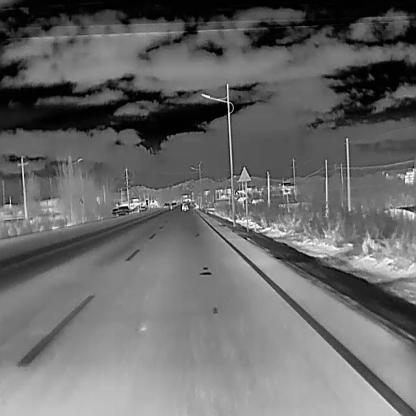car: (117, 205, 130, 215), (111, 207, 118, 217), (181, 202, 188, 211), (163, 202, 167, 208), (167, 203, 170, 208)
